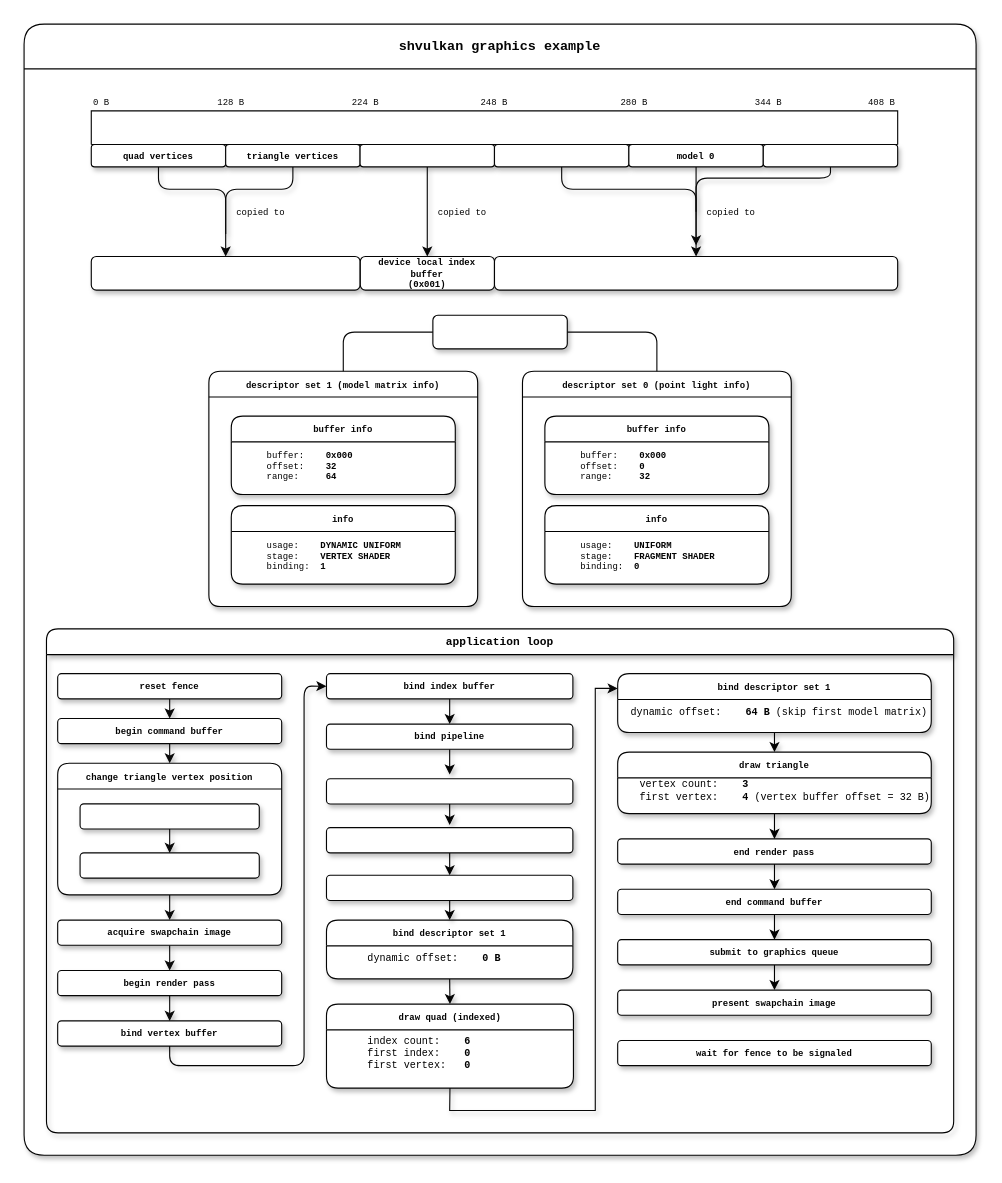
Some shapes in this 1002 by 1183 pixel diagram are drawn without their labels. Each missing label, with the centre of its shape:
"bind descriptor set 0" goes at pixel 450 889.
"copy staging buffer to vertex buffer" goes at pixel 170 866.
"device local descriptor buffer (0x002)" goes at pixel 696 274.
"device local vertex buffer (0x000)" goes at pixel 226 274.
"edit staging buffer triangle vertices" goes at pixel 170 817.
"host visible staging buffer" goes at pixel 494 127.
"light data" goes at pixel 562 157.
"model 1" goes at pixel 831 157.
"pipeline" goes at pixel 500 333.
"push constant data" goes at pixel 450 792.
"quad indices" goes at pixel 427 157.
"update descriptor sets" goes at pixel 450 841.
